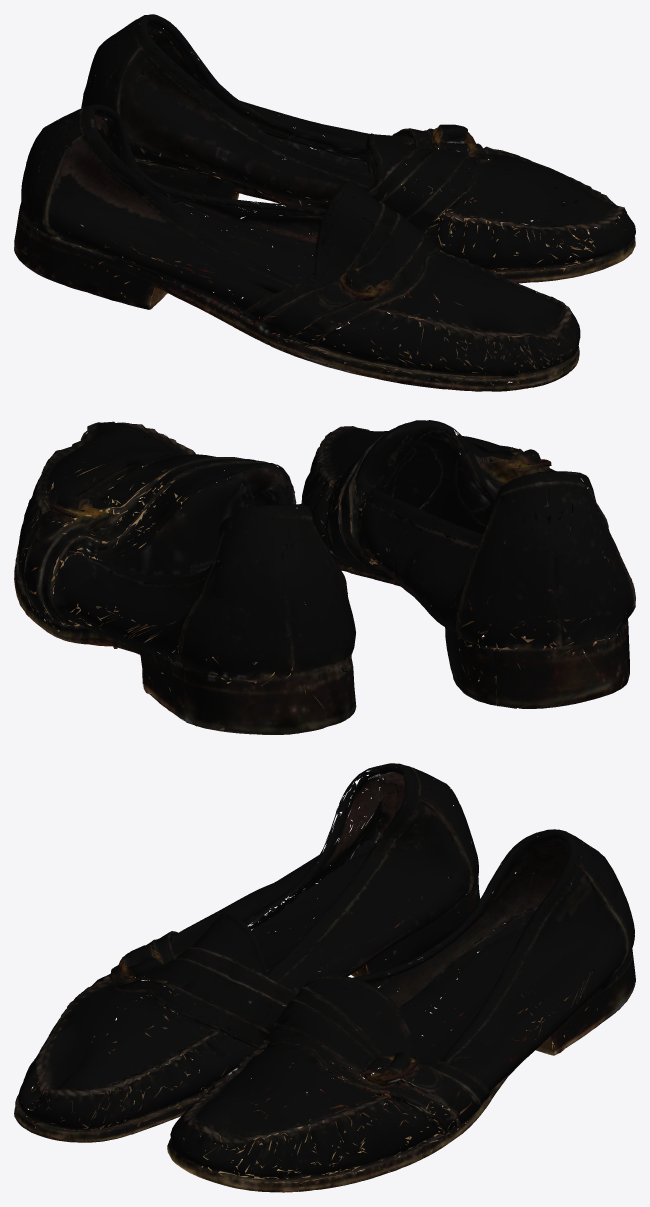
The picture shows the model from 3 angles, top to bottom: view 1: azimuth 30°, elevation 25°; view 2: azimuth 150°, elevation 25°; view 3: azimuth 270°, elevation 25°; orthographic projection. The views are drawn at different scales.
Visible parts, largest first — view 1: Object_3, Object_5, Object_7, Object_6, Object_2, Object_8, Object_4, Object_10, Object_9; view 2: Object_4, Object_9, Object_6, Object_8, Object_3, Object_2, Object_7, Object_5, Object_10; view 3: Object_8, Object_5, Object_7, Object_6, Object_9, Object_4, Object_3, Object_10, Object_2.
Part boxes in pixels (<box>): Object_3: <box>14,14,580,391</box>; Object_5: <box>106,37,622,391</box>; Object_7: <box>14,24,634,387</box>; Object_6: <box>22,22,635,391</box>; Object_2: <box>30,25,570,380</box>; Object_8: <box>14,18,600,391</box>; Object_4: <box>15,14,634,349</box>; Object_10: <box>90,140,596,369</box>; Object_9: <box>24,14,575,384</box>; Object_4: <box>16,441,635,730</box>; Object_9: <box>18,454,627,734</box>; Object_6: <box>20,426,608,734</box>; Object_8: <box>21,432,633,708</box>; Object_3: <box>64,447,635,708</box>; Object_2: <box>175,420,619,622</box>; Object_7: <box>14,421,630,727</box>; Object_5: <box>18,426,557,690</box>; Object_10: <box>14,425,622,654</box>; Object_8: <box>19,763,596,1192</box>; Object_5: <box>16,804,543,1190</box>; Object_7: <box>14,769,624,1192</box>; Object_6: <box>16,767,635,1192</box>; Object_9: <box>20,780,635,1157</box>; Object_4: <box>33,767,635,1191</box>; Object_3: <box>14,775,581,1128</box>; Object_10: <box>18,848,400,1192</box>; Object_2: <box>15,763,544,1131</box>.
Bounding box in the file's own units: 290 × 111 × 289.
1 material, 1 textured.
